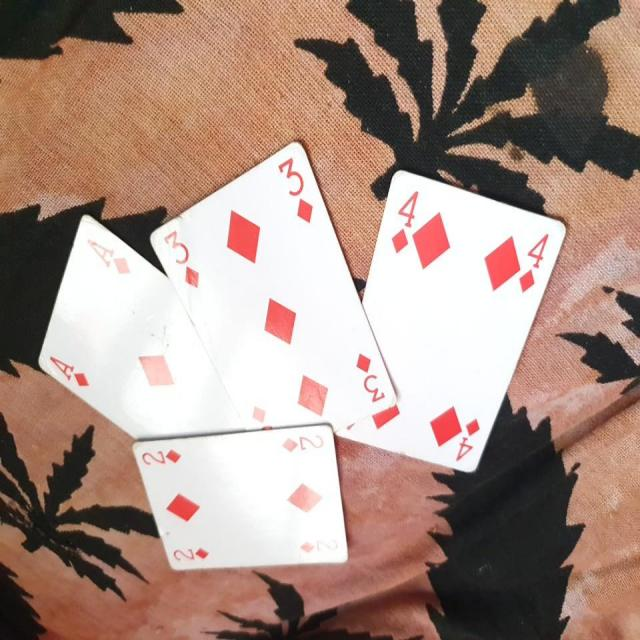2 Diamonds: (124, 419, 353, 574)
3 Diamonds: (145, 135, 400, 426)
4 Diamonds: (340, 162, 567, 476)
A Diamonds: (32, 206, 245, 487)
